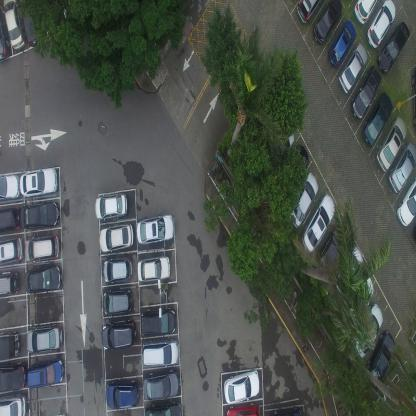car: (301, 192, 335, 255), (376, 18, 410, 74), (374, 115, 407, 172), (365, 331, 395, 391), (362, 90, 394, 146), (350, 64, 382, 119), (289, 170, 319, 228), (352, 303, 382, 359), (313, 225, 344, 278), (338, 42, 368, 94), (387, 141, 416, 194), (334, 246, 363, 297), (366, 0, 396, 49), (346, 273, 374, 322), (312, 0, 342, 45), (328, 20, 356, 68), (19, 170, 59, 203), (24, 266, 64, 298), (2, 0, 27, 51), (142, 366, 178, 401), (224, 370, 260, 405), (137, 214, 174, 248), (20, 204, 61, 234), (29, 358, 64, 392), (25, 326, 63, 357), (18, 0, 43, 47), (100, 319, 136, 351), (140, 305, 177, 336), (100, 224, 134, 257), (396, 176, 416, 231), (143, 337, 179, 367), (102, 285, 132, 319), (105, 382, 139, 412), (25, 238, 60, 266), (95, 194, 127, 224), (137, 256, 170, 284), (104, 254, 132, 286), (1, 365, 28, 395), (353, 0, 380, 26), (1, 241, 24, 271), (0, 333, 21, 364), (1, 207, 20, 238), (0, 393, 26, 415), (297, 0, 321, 23), (1, 178, 20, 206), (144, 402, 182, 416), (1, 274, 19, 300), (225, 404, 260, 415)
